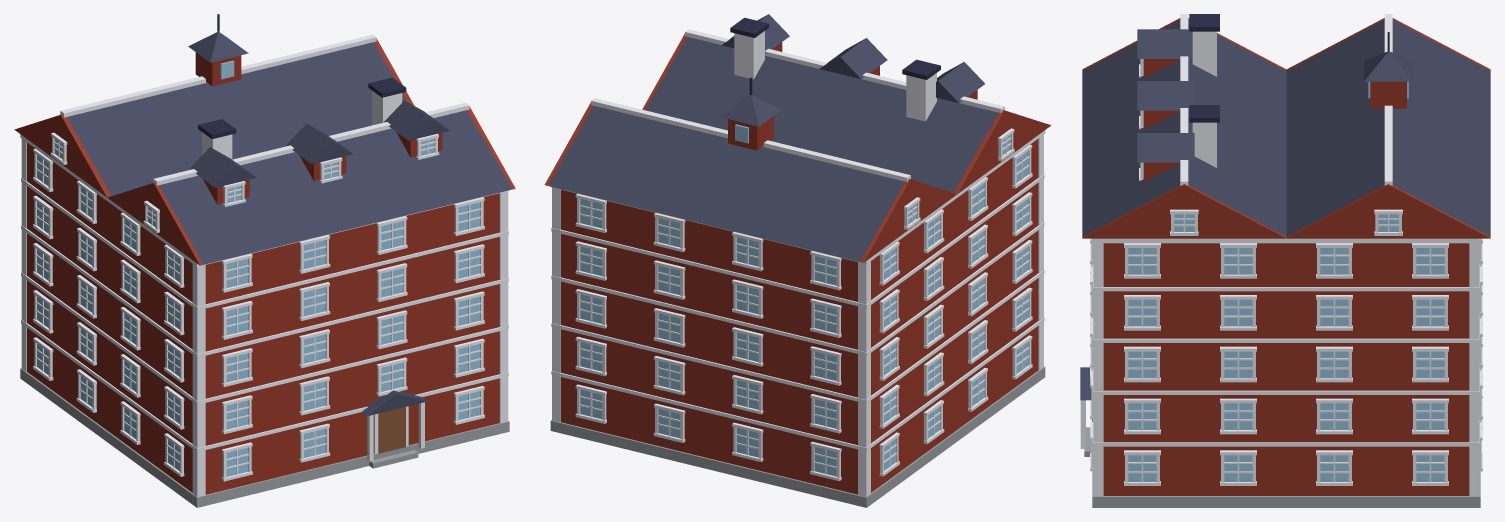
Rendered from house-2x2-5f-stuga-a-solar.glb.
3 renders of one model, left to right at view 1: azimuth 30°, elevation 25°; view 2: azimuth 150°, elevation 25°; view 3: azimuth 270°, elevation 25°, orthographic. The views are drawn at different scales.
Visible parts, largest first — view 1: house-2x2-5f-stuga-a-solar; view 2: house-2x2-5f-stuga-a-solar; view 3: house-2x2-5f-stuga-a-solar.
Boxes of the visible parts, x1,y1,x2,y2 form: house-2x2-5f-stuga-a-solar: (14, 14, 515, 507); house-2x2-5f-stuga-a-solar: (544, 14, 1050, 507); house-2x2-5f-stuga-a-solar: (1080, 14, 1490, 507).
Bounding box in the file's own units: 2 × 2.12 × 2.01.
Materials: 1 (1 with a texture image).
